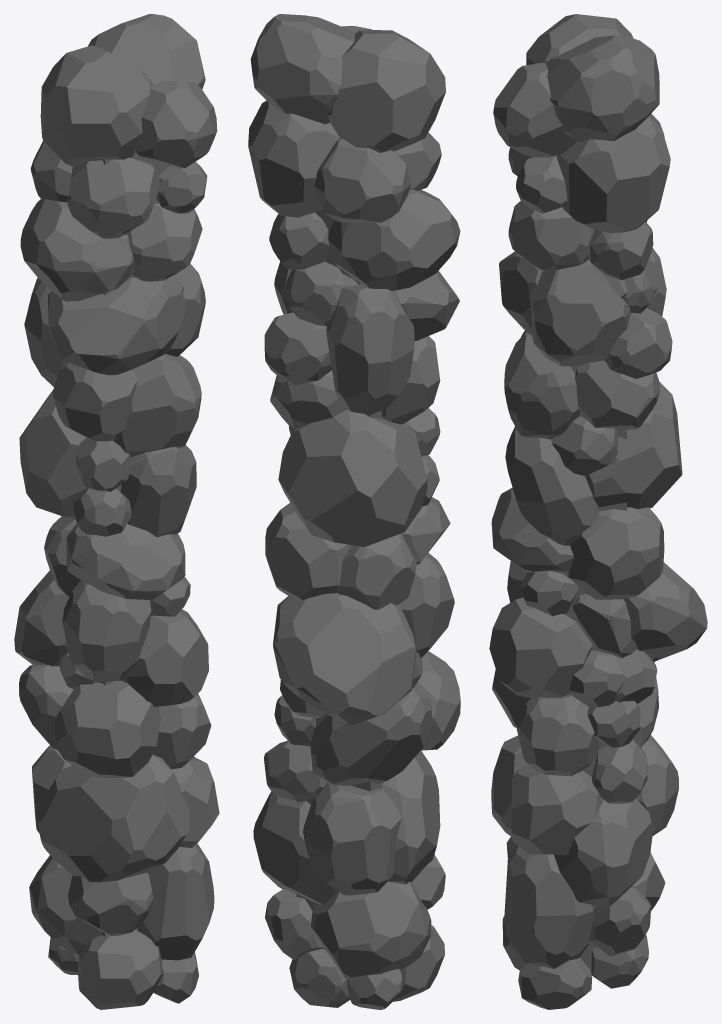
Rendered from stonePillar.obj.
The picture shows the model from 3 angles, left to right: view 1: azimuth 30°, elevation 25°; view 2: azimuth 150°, elevation 25°; view 3: azimuth 270°, elevation 25°; orthographic projection. The views are drawn at different scales.
Visible parts, largest first — view 1: ICO球.001_ICO球.003; view 2: ICO球.001_ICO球.003; view 3: ICO球.001_ICO球.003.
Boxes of the visible parts, bbox=[...] form: ICO球.001_ICO球.003: bbox=[14, 14, 219, 1009]; ICO球.001_ICO球.003: bbox=[248, 14, 460, 1009]; ICO球.001_ICO球.003: bbox=[489, 14, 707, 1009].
Bounding box in the file's own units: 5.92 × 30.46 × 6.22.
1 material, 1 textured.
